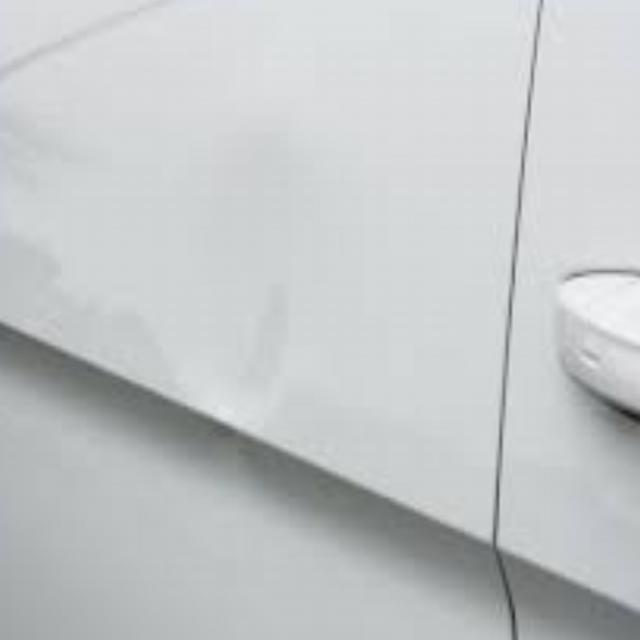dents: (209, 259, 308, 430)
